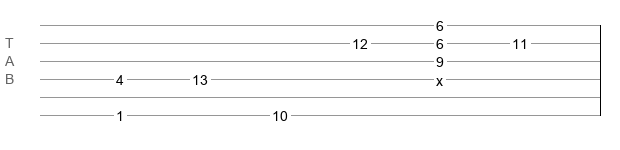1: (116, 108, 124, 118)
10: (272, 108, 288, 118)
11: (512, 36, 528, 46)
12: (352, 36, 368, 46)
13: (192, 72, 208, 82)
4: (116, 72, 124, 82)
6: (436, 18, 444, 28), (436, 36, 444, 46)
9: (436, 54, 444, 64)
x: (436, 73, 443, 81)
